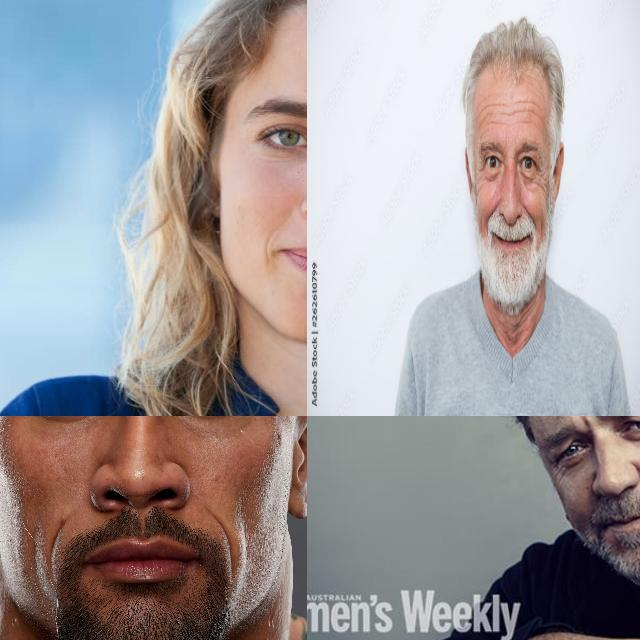crows_feet: (550, 462, 566, 482), (475, 158, 484, 179), (537, 163, 545, 184)
forehead: (512, 97, 528, 126), (478, 97, 492, 126), (530, 94, 542, 127), (494, 98, 508, 125)
gummy_smile: (488, 198, 500, 218), (523, 201, 534, 221), (632, 460, 640, 487)
sad_smile: (207, 509, 243, 576), (45, 524, 67, 576), (262, 234, 272, 266)
